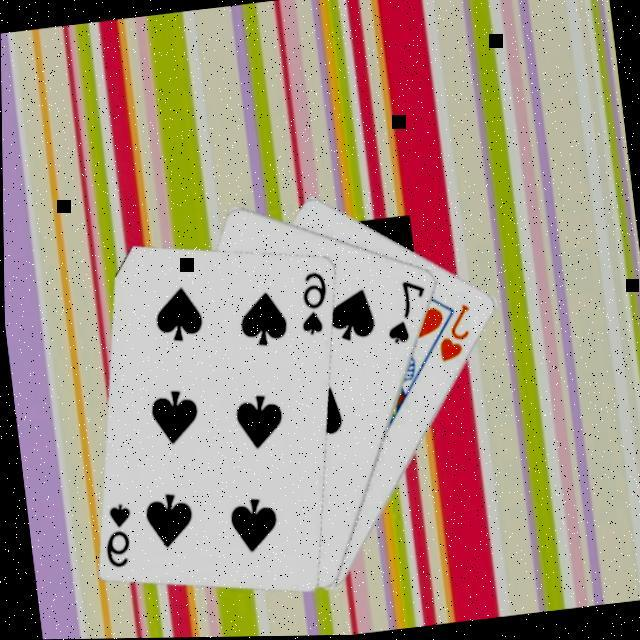6S: (292, 266, 335, 337), (95, 497, 138, 568)
7S: (378, 274, 433, 346)
JH: (430, 298, 479, 365)
